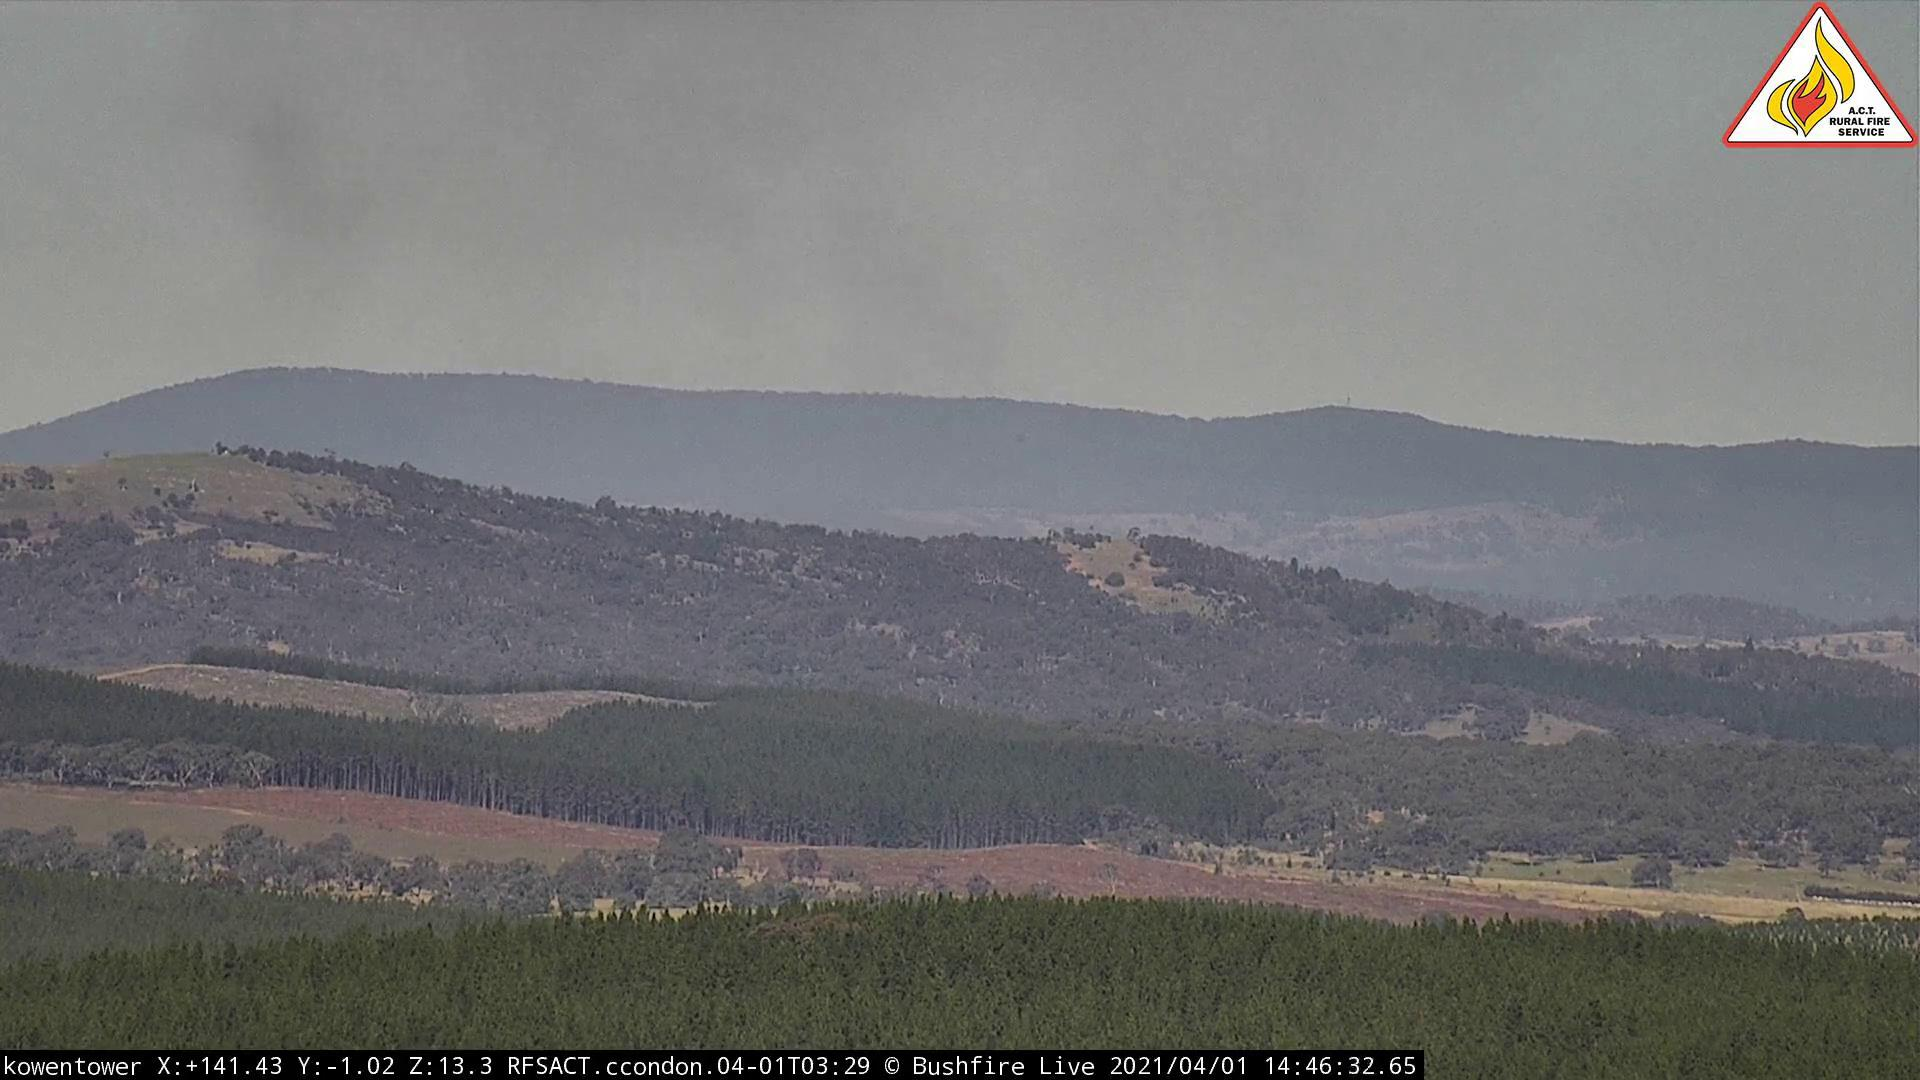instance_salient_object: (206, 3, 1079, 404)
